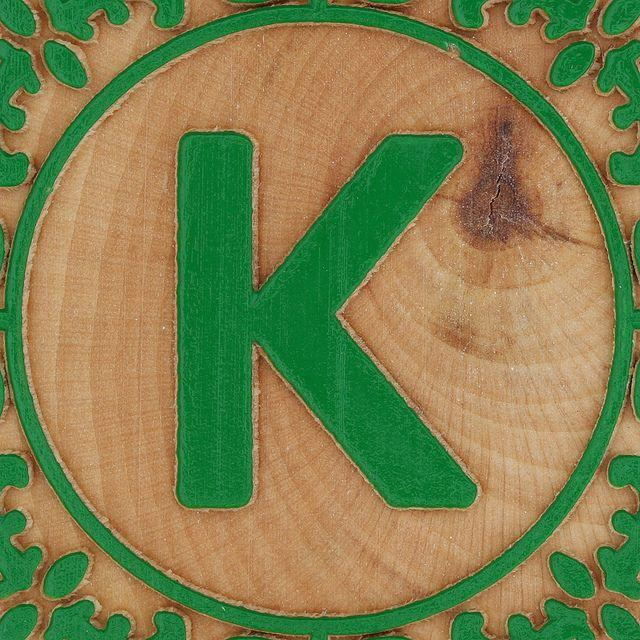K: (150, 107, 500, 548)
